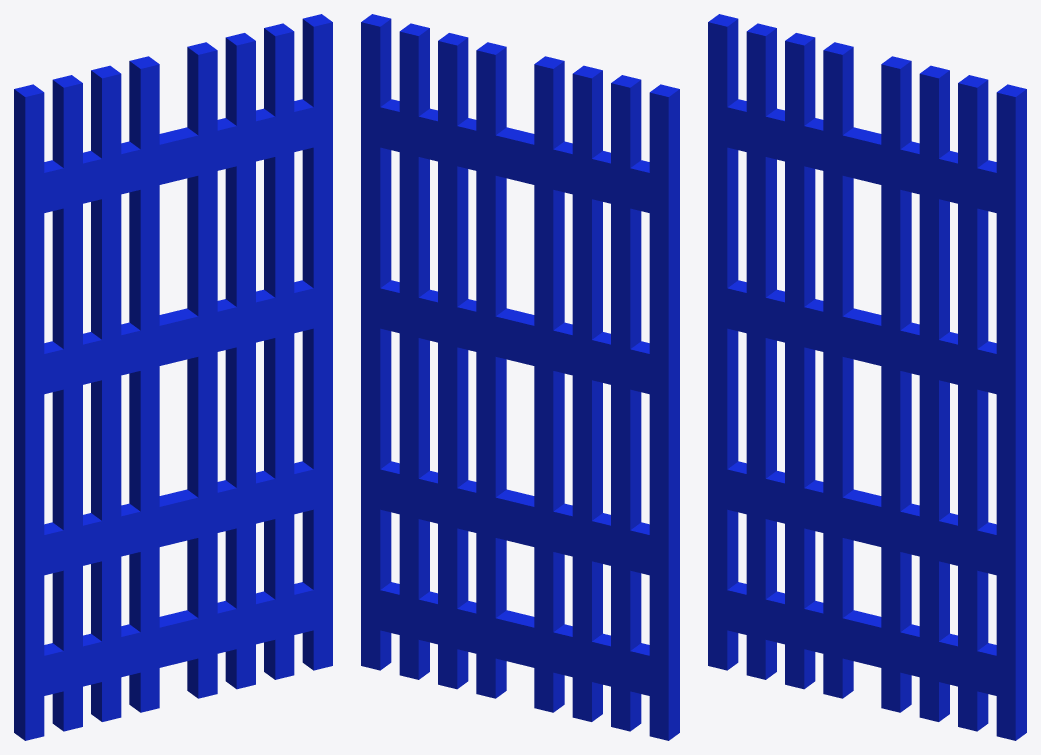
The model's file is Corridor-Door-Blue.vox.obj.
3 views of the same model, side by side, from view 1: azimuth 30°, elevation 25°; view 2: azimuth 150°, elevation 25°; view 3: azimuth 330°, elevation 25° (orthographic).
Size of the model in its own units: 1.6 by 3.2 by 0.1.
Materials: 1 (1 with a texture image).
